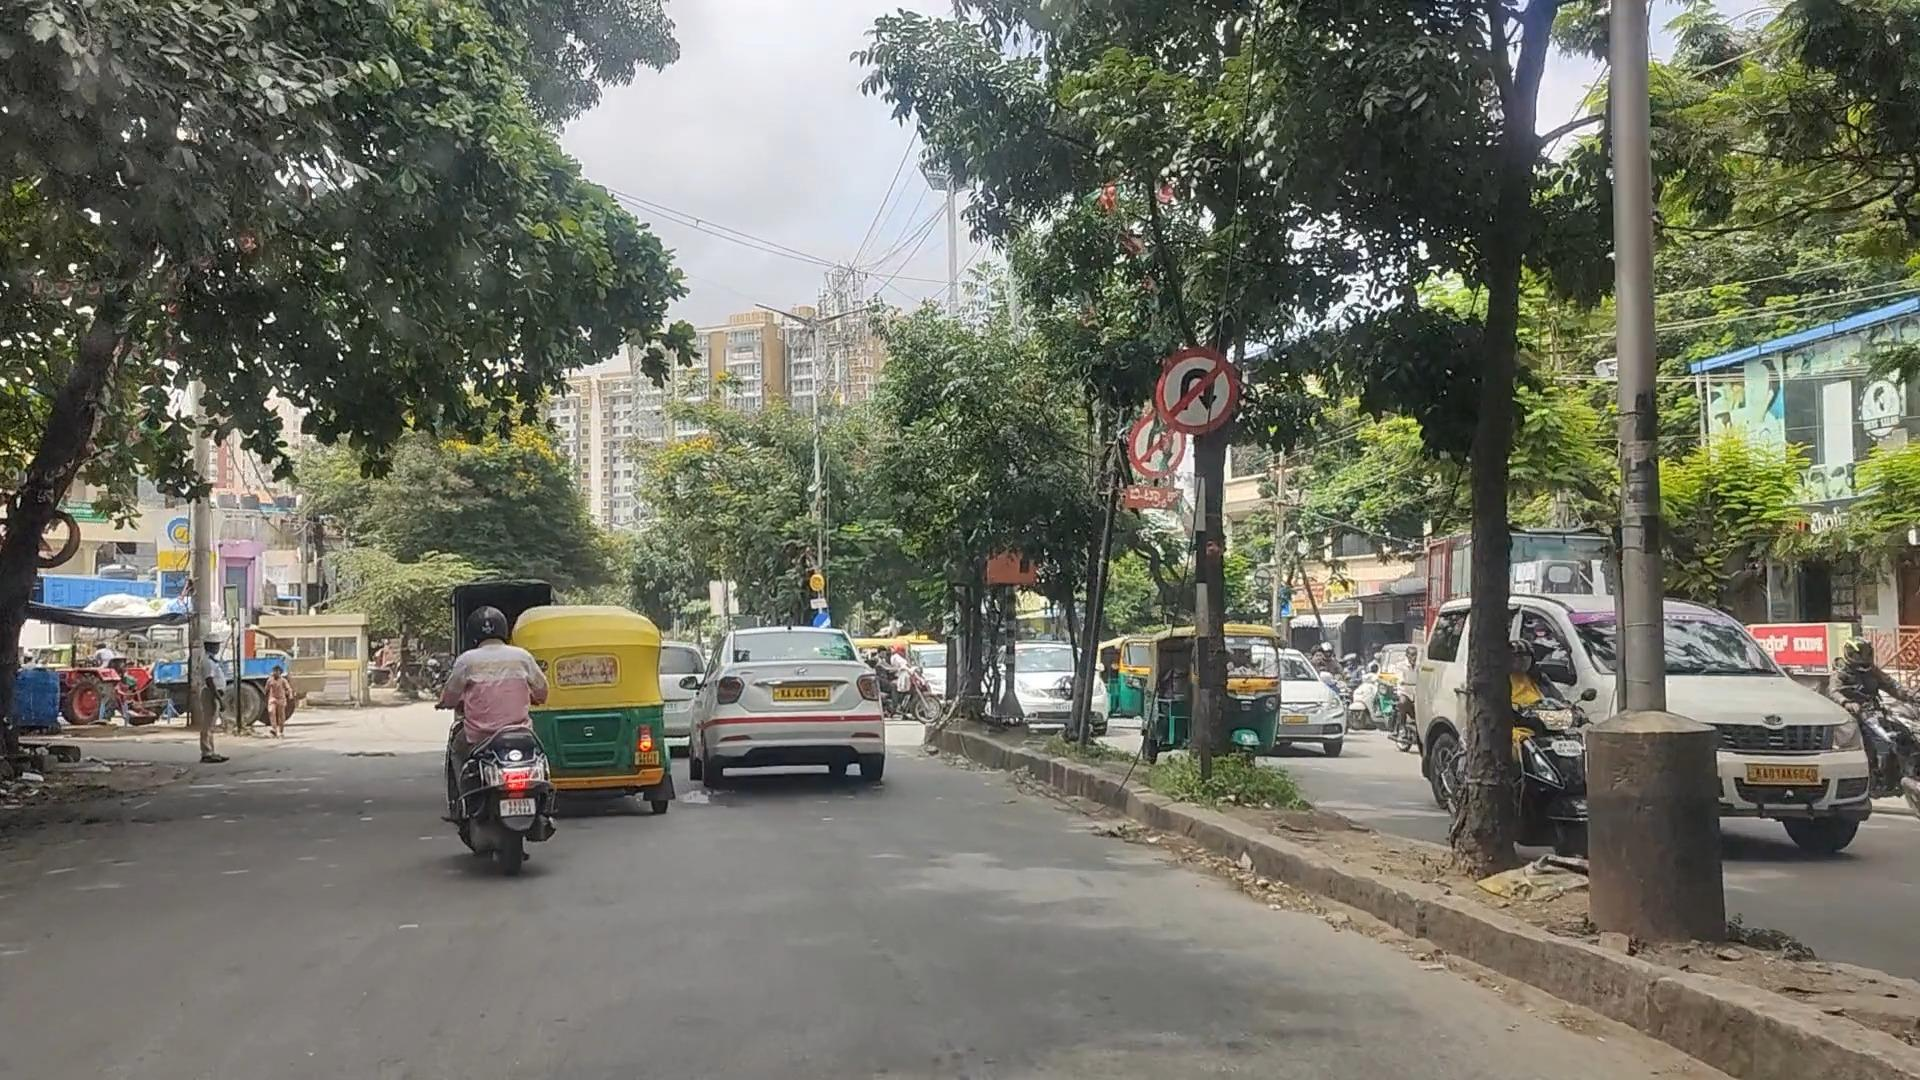LMV: (703, 638, 890, 794), (434, 622, 558, 849), (525, 604, 670, 791)
